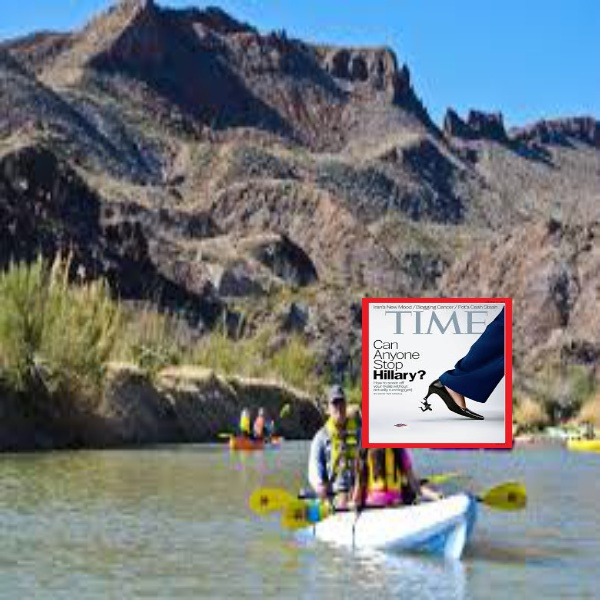time_cover: (359, 285, 520, 453)
